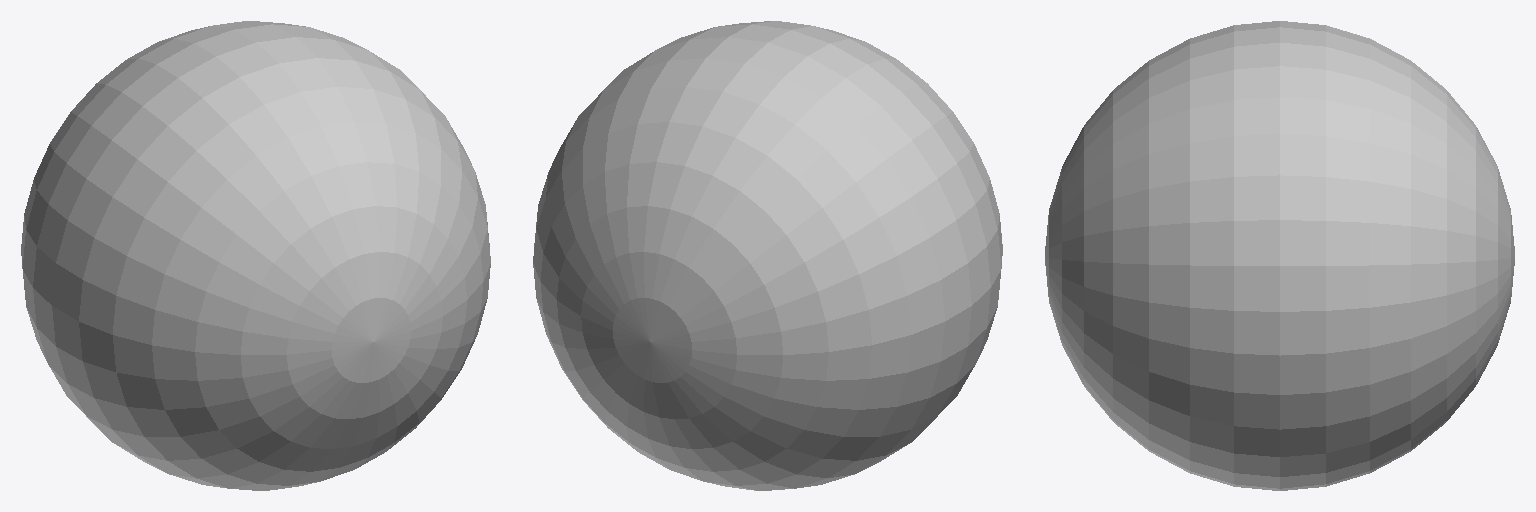
3 views of the same model, side by side, from view 1: azimuth 30°, elevation 25°; view 2: azimuth 150°, elevation 25°; view 3: azimuth 270°, elevation 25° (orthographic).
Visible parts, largest first — view 1: Sphere; view 2: Sphere; view 3: Sphere.
Boxes of the visible parts, <box> form: Sphere: <box>21,21,490,490</box>; Sphere: <box>533,21,1002,490</box>; Sphere: <box>1045,21,1514,490</box>.
Size of the model in its own units: 2 by 2 by 2.